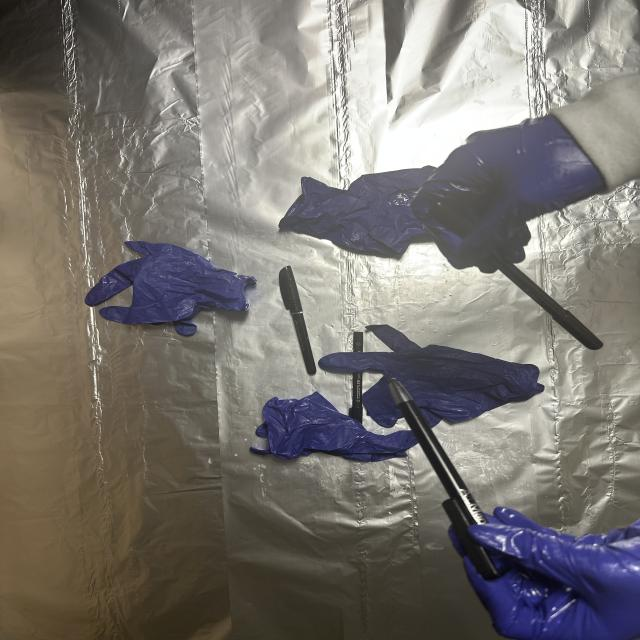gloves_contaminated: (412, 116, 604, 271), (449, 507, 640, 640)
